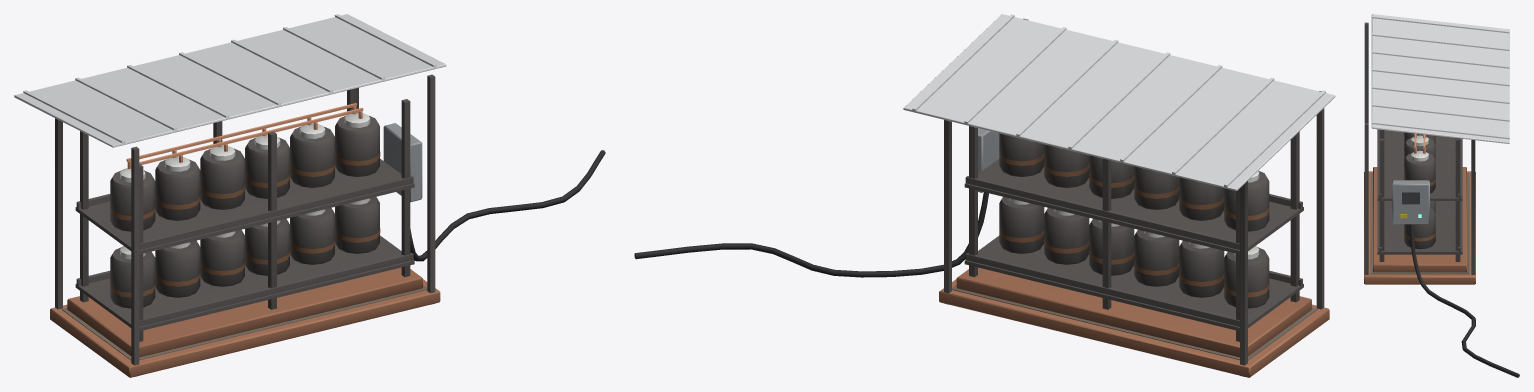
Rendered from bs_battery.glb.
3 views of the same model, side by side, from view 1: azimuth 30°, elevation 25°; view 2: azimuth 150°, elevation 25°; view 3: azimuth 270°, elevation 25° (orthographic). The views are drawn at different scales.
Visible parts, largest first — view 1: bs_battery_mesh; view 2: bs_battery_mesh; view 3: bs_battery_mesh.
Boxes of the visible parts, box(x1,y1,x2,y2) form: bs_battery_mesh: box(14, 14, 605, 377); bs_battery_mesh: box(634, 14, 1335, 377); bs_battery_mesh: box(1364, 14, 1519, 377).
Size of the model in its own units: 5.37 by 2.02 by 1.74.
